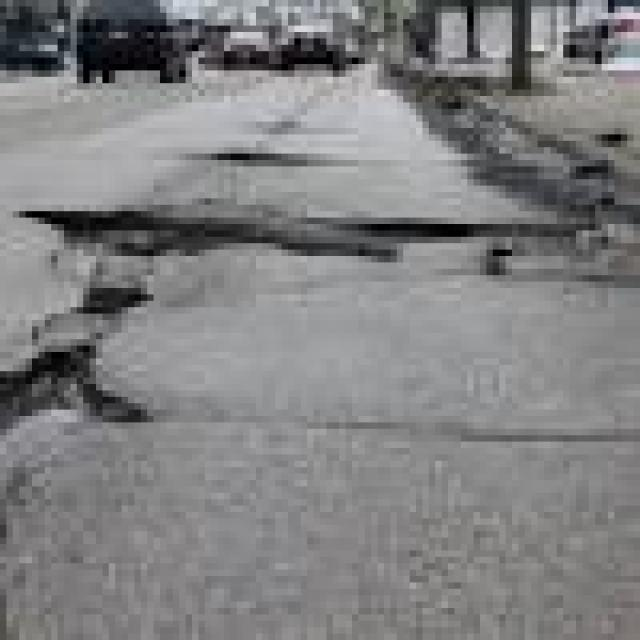Pothole: (26, 211, 480, 262), (0, 333, 154, 435), (83, 262, 154, 326)
